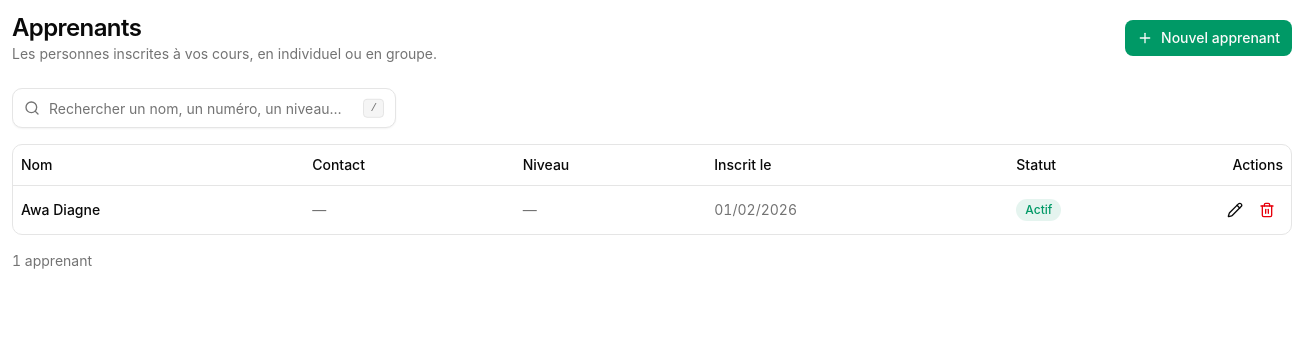
Test: ApprenantsPage › recherche et pagination › dit qu’aucun apprenant ne correspond, et permet d’effacer
The image size is (1304, 359).
Type "zzz" into the search field at (204, 108), box [12, 88, 396, 128]
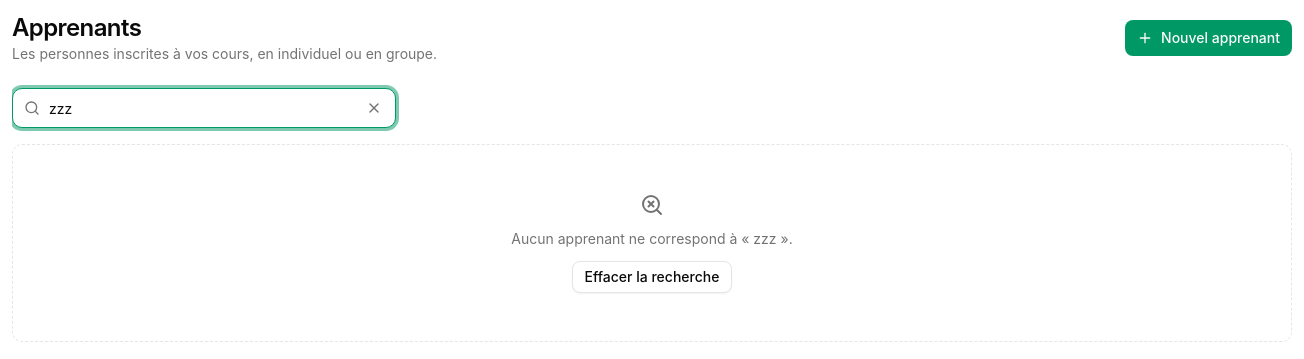
Now the text "Aucun apprenant ne correspond à « zzz »." is shown, box [511, 229, 793, 249]
Click the button "Effacer la recherche" at (652, 277), box [572, 261, 732, 293]
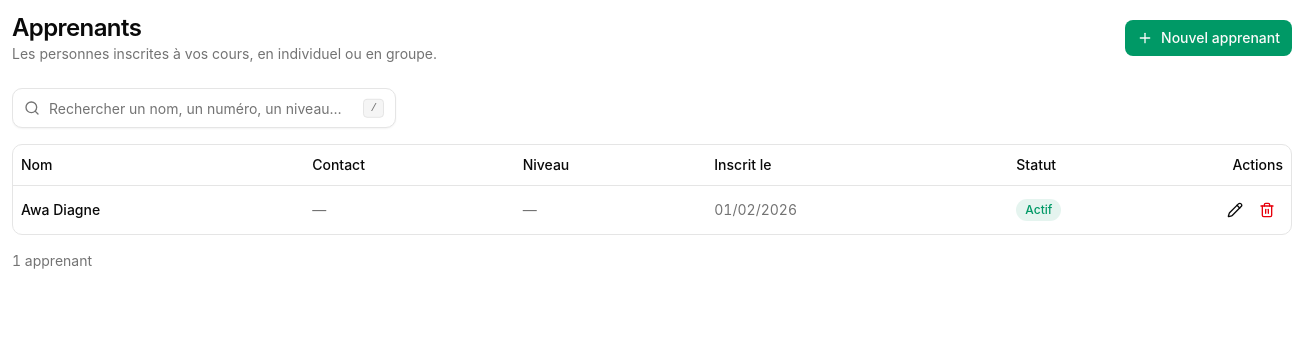
Now the number of buttons "Awa Diagne" is 2
